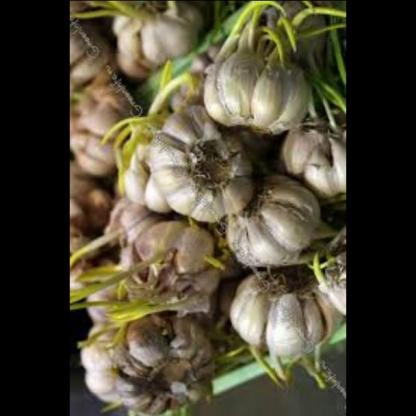garlic: (69, 0, 346, 416)
